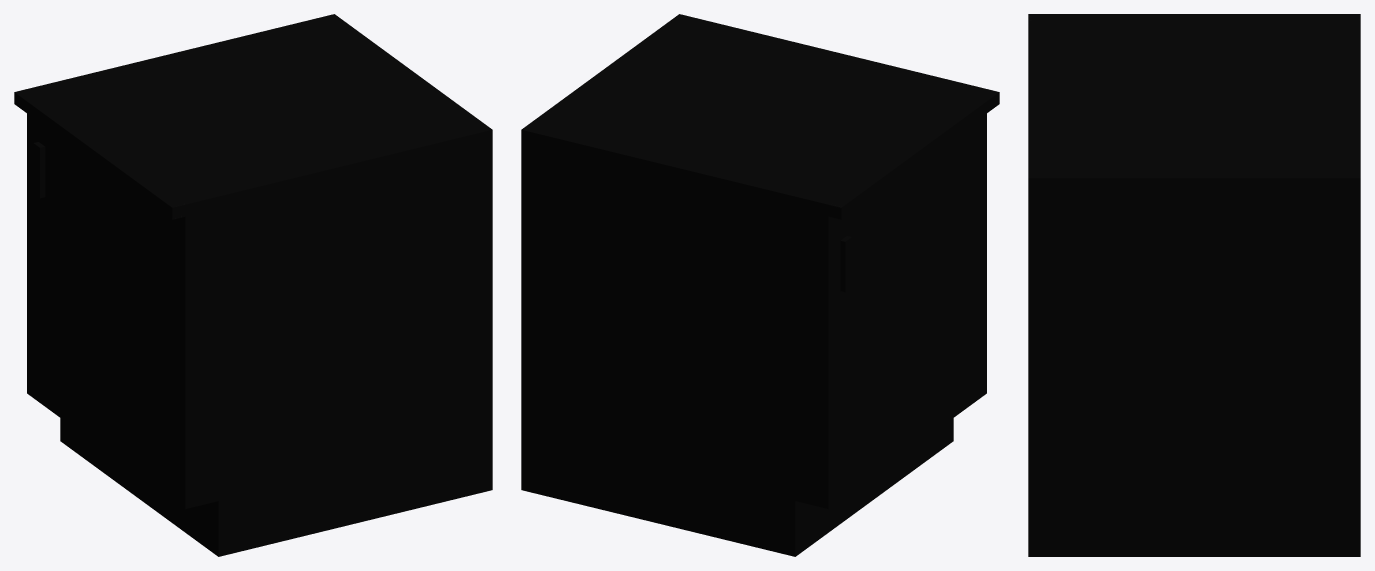
File: KitchenCupboardB.fbx
3 renders of one model, left to right at view 1: azimuth 30°, elevation 25°; view 2: azimuth 150°, elevation 25°; view 3: azimuth 270°, elevation 25°, orthographic. The views are drawn at different scales.
Visible parts, largest first — view 1: node_id5; view 2: node_id5; view 3: node_id5.
Boxes of the visible parts, <box> form: node_id5: <box>14,14,492,556</box>; node_id5: <box>521,14,999,556</box>; node_id5: <box>1028,14,1360,556</box>.
Bounding box in the file's own units: 0.4762 × 0.512 × 0.4072.
Materials: 1 (1 with a texture image).
